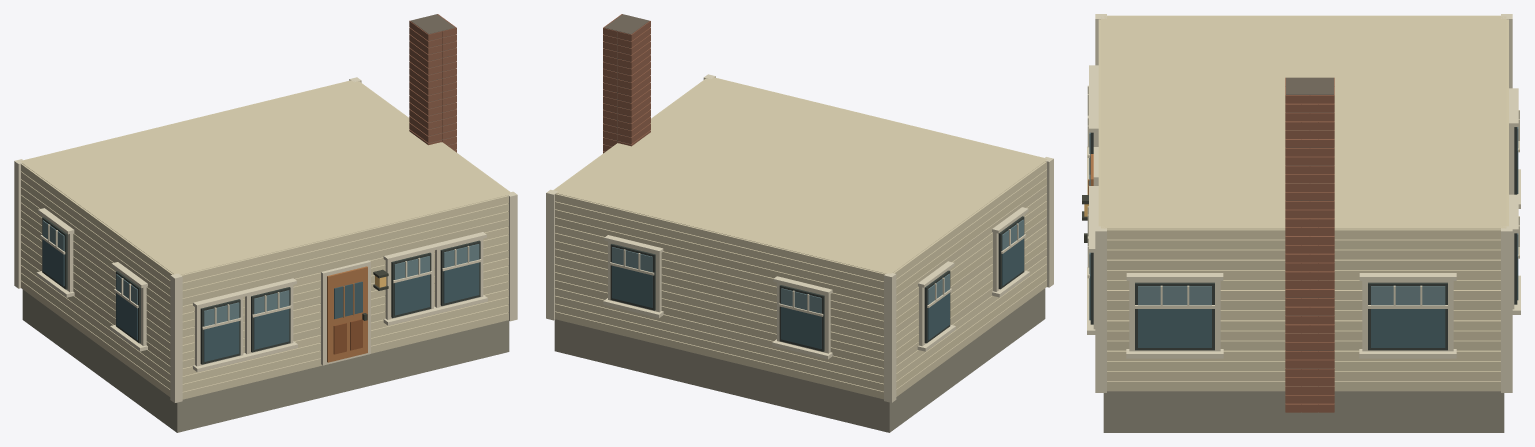
Rendered from craftsman_lower.glb.
The picture shows the model from 3 angles, left to right: view 1: azimuth 30°, elevation 25°; view 2: azimuth 150°, elevation 25°; view 3: azimuth 270°, elevation 25°; orthographic projection. The views are drawn at different scales.
Visible parts, largest first — view 1: KitCraftsmanLowerSiding, KitCraftsmanLowerDetails; view 2: KitCraftsmanLowerSiding, KitCraftsmanLowerDetails; view 3: KitCraftsmanLowerSiding, KitCraftsmanLowerDetails.
Boxes of the visible parts, x1,y1,x2,y2 form: KitCraftsmanLowerSiding: (20,80,510,399); KitCraftsmanLowerDetails: (14,14,517,432); KitCraftsmanLowerSiding: (553,77,1047,399); KitCraftsmanLowerDetails: (546,14,1053,432); KitCraftsmanLowerSiding: (1098,15,1508,391); KitCraftsmanLowerDetails: (1082,14,1520,432).
Bounding box in the file's own units: 8.93 × 6.36 × 7.25.
